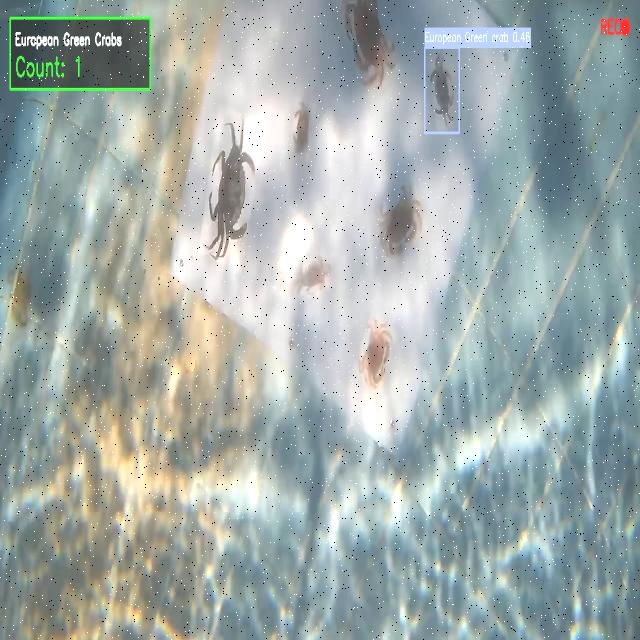European_Green_Crab: (192, 100, 267, 270), (422, 38, 465, 132), (282, 241, 333, 314)
